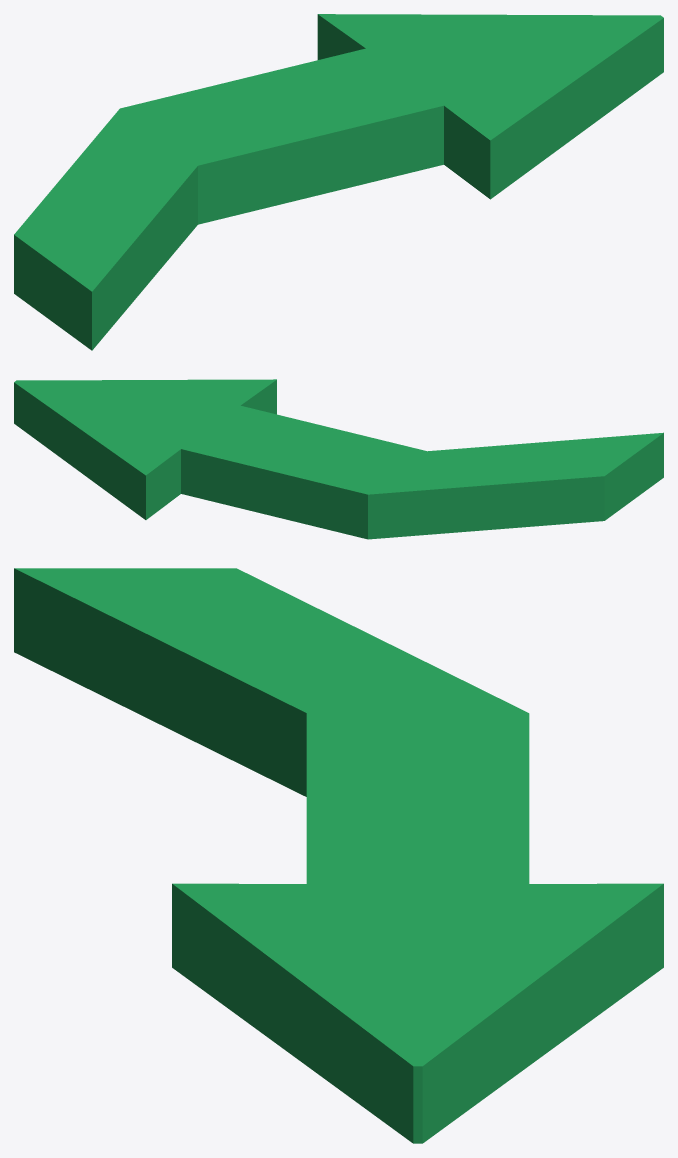
The model's file is arrow-right.fbx.
The picture shows the model from 3 angles, top to bottom: view 1: azimuth 30°, elevation 25°; view 2: azimuth 150°, elevation 25°; view 3: azimuth 270°, elevation 25°; orthographic projection. The views are drawn at different scales.
Visible parts, largest first — view 1: Cube.003; view 2: Cube.003; view 3: Cube.003.
Boxes of the visible parts, x1,y1,x2,y2 form: Cube.003: (14, 14, 663, 350); Cube.003: (14, 379, 663, 539); Cube.003: (14, 568, 663, 1143).
Size of the model in its own units: 292 by 23.16 by 162.
